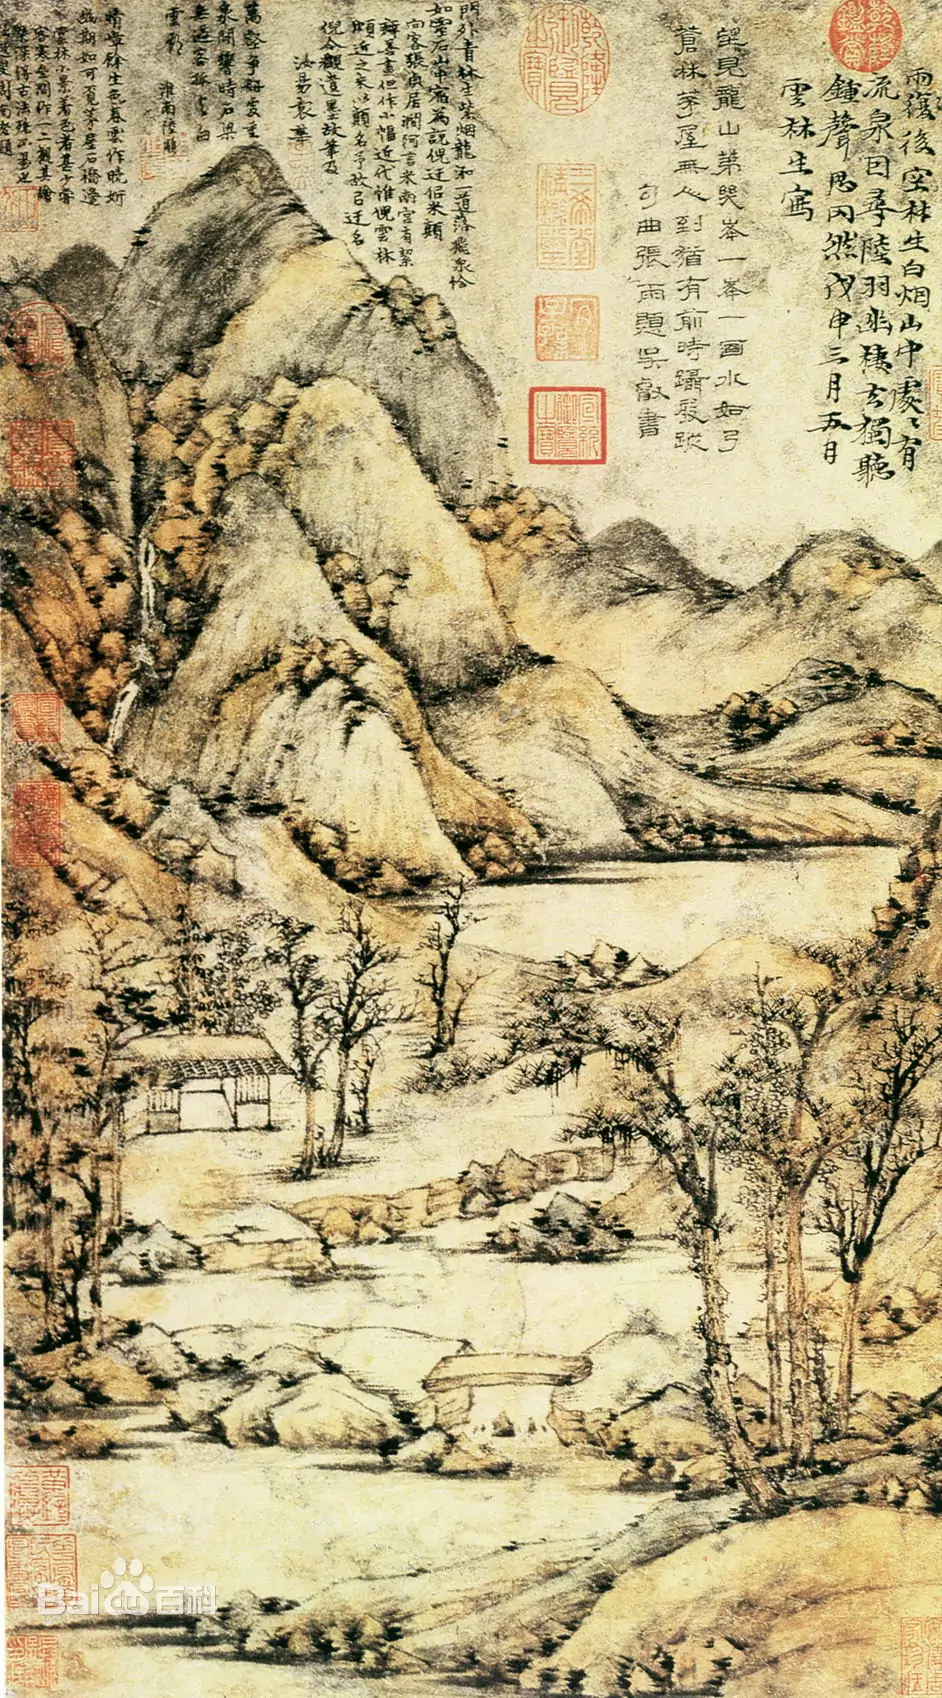bridge: (405, 1328, 597, 1405)
house: (119, 1015, 299, 1169)
mountain: (3, 144, 923, 868)
tree: (509, 990, 771, 1512), (736, 975, 942, 1501), (7, 924, 123, 1387), (268, 891, 340, 1183), (326, 910, 387, 1168), (415, 875, 485, 1073)
